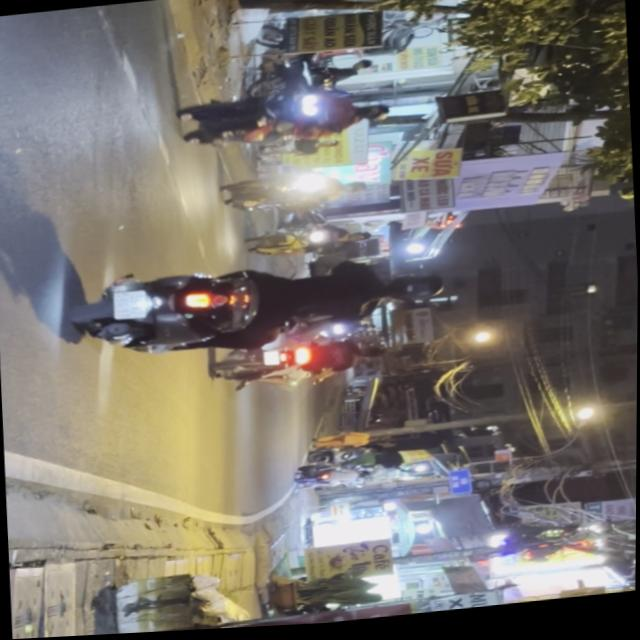helmet: (382, 272, 446, 309)
licenseplate: (63, 243, 450, 369)
nohelmet: (114, 288, 151, 322), (263, 351, 282, 369)
